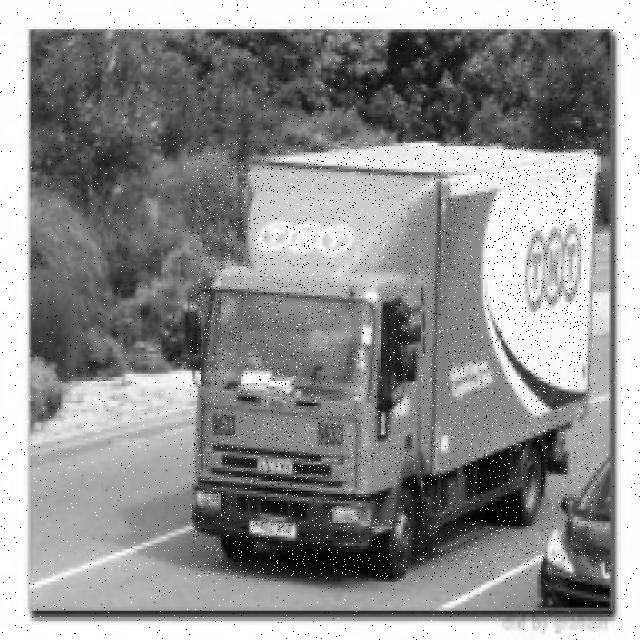Box Truck: (191, 142, 601, 580)
